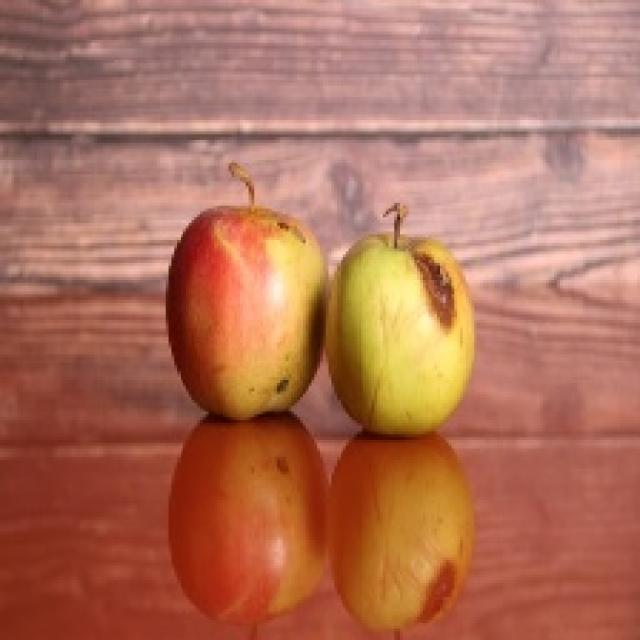100-_ripeness: (169, 204, 324, 416)
rotten_apple: (329, 239, 472, 433)
